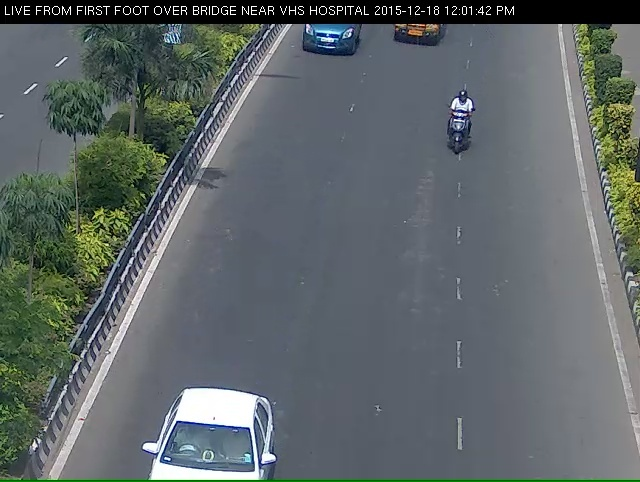Car: (130, 431, 273, 479), (289, 24, 359, 67)
Person: (437, 104, 482, 177)
